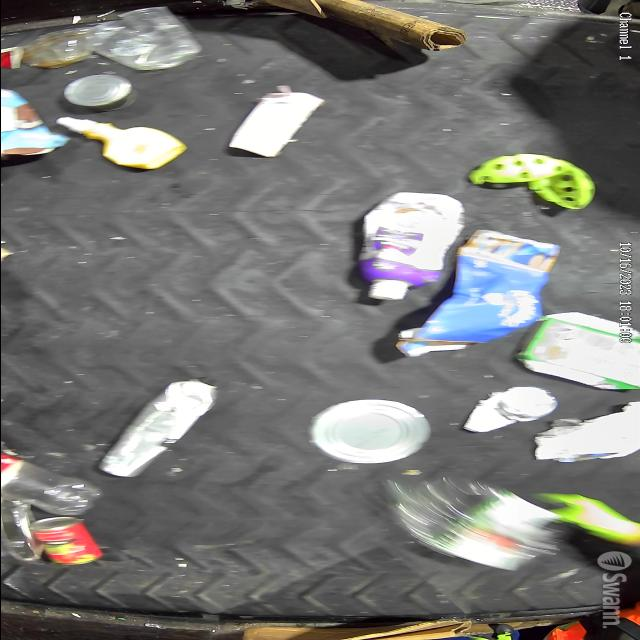can: (310, 400, 430, 464), (462, 386, 556, 434), (31, 516, 101, 566), (61, 73, 138, 112)
non_white_jug: (392, 230, 558, 358), (356, 192, 466, 300), (514, 312, 640, 391)
plastic_bottle: (0, 454, 102, 516)
